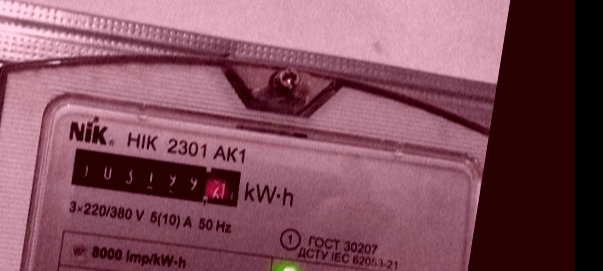0: (101, 162, 115, 182), (78, 159, 90, 178)
1: (145, 166, 157, 185)
3: (122, 165, 135, 187)
6: (209, 184, 221, 199)
9: (165, 168, 178, 189), (187, 173, 200, 193)
screen: (62, 136, 250, 218)
